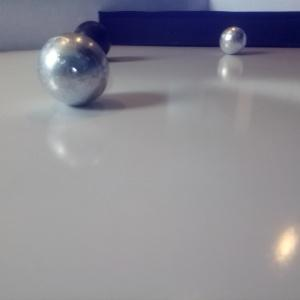zone: (98, 10, 300, 48)
